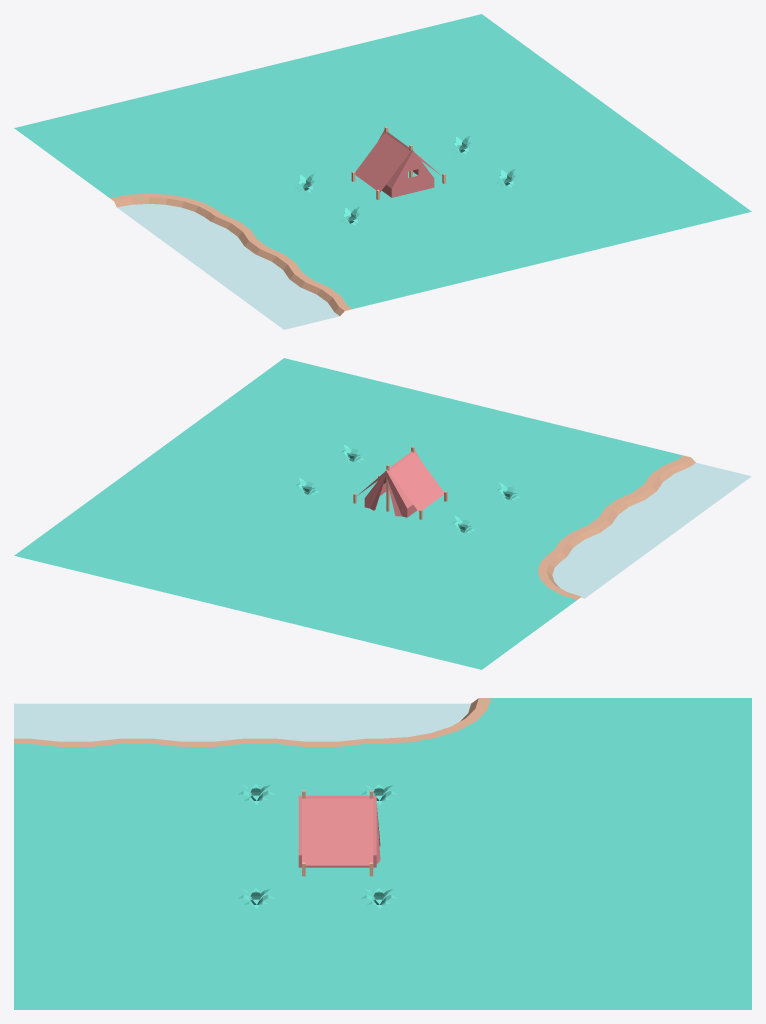
The model's file is removed_grid.glb.
The picture shows the model from 3 angles, top to bottom: view 1: azimuth 30°, elevation 25°; view 2: azimuth 150°, elevation 25°; view 3: azimuth 270°, elevation 25°; orthographic projection. The views are drawn at different scales.
Visible parts, largest first — view 1: ground_riverCorner, ground_riverSide.001, ground_riverSide.002, ground_riverSide, ground_grass.010, ground_grass.022, ground_grass.001, ground_grass.002, ground_grass.004, ground_grass.016, ground_grass.017, ground_grass.023 (+25 smaller); view 2: ground_riverSide.002, ground_riverSide.001, ground_riverSide, ground_grass.001, ground_grass.004, ground_grass.010, ground_grass.030, ground_grass, ground_grass.012, ground_grass.015, ground_grass.017, ground_grass.022 (+25 smaller); view 3: ground_grass, ground_grass.001, ground_grass.002, ground_grass.004, ground_grass.006, ground_grass.009, ground_grass.010, ground_grass.011, ground_grass.012, ground_grass.016, ground_grass.017, ground_grass.018 (+25 smaller).
Boxes of the visible parts, left/top/right/bottom form: ground_riverCorner: left=104, top=175, right=226, bottom=230; ground_riverSide.001: left=194, top=241, right=316, bottom=296; ground_riverSide.002: left=239, top=274, right=361, bottom=329; ground_riverSide: left=149, top=208, right=271, bottom=263; ground_grass.010: left=215, top=104, right=337, bottom=155; ground_grass.022: left=371, top=66, right=493, bottom=117; ground_grass.001: left=14, top=109, right=136, bottom=160; ground_grass.002: left=92, top=90, right=214, bottom=141; ground_grass.004: left=137, top=123, right=259, bottom=174; ground_grass.016: left=293, top=85, right=415, bottom=136; ground_grass.017: left=248, top=52, right=370, bottom=103; ground_grass.023: left=326, top=33, right=448, bottom=84; ground_riverSide.002: left=629, top=453, right=751, bottom=508; ground_riverSide.001: left=584, top=486, right=706, bottom=541; ground_riverSide: left=539, top=519, right=661, bottom=574; ground_grass.001: left=404, top=618, right=526, bottom=669; ground_grass.004: left=371, top=566, right=493, bottom=617; ground_grass.010: left=293, top=547, right=415, bottom=598; ground_grass.030: left=239, top=358, right=361, bottom=409; ground_grass: left=449, top=585, right=571, bottom=636; ground_grass.012: left=473, top=415, right=595, bottom=466; ground_grass.015: left=260, top=495, right=382, bottom=546; ground_grass.017: left=170, top=561, right=292, bottom=612; ground_grass.022: left=137, top=509, right=259, bottom=560; ground_grass: left=506, top=698, right=628, bottom=749; ground_grass.001: left=629, top=698, right=751, bottom=749; ground_grass.002: left=629, top=750, right=751, bottom=801; ground_grass.004: left=506, top=750, right=628, bottom=801; ground_grass.006: left=14, top=750, right=136, bottom=801; ground_grass.009: left=383, top=802, right=505, bottom=853; ground_grass.010: left=506, top=802, right=628, bottom=853; ground_grass.011: left=629, top=802, right=751, bottom=853; ground_grass.012: left=14, top=802, right=136, bottom=853; ground_grass.016: left=506, top=854, right=628, bottom=905; ground_grass.017: left=629, top=854, right=751, bottom=905; ground_grass.018: left=14, top=854, right=136, bottom=905.
Bounding box in the file's own units: 6 × 0.6111 × 6.
